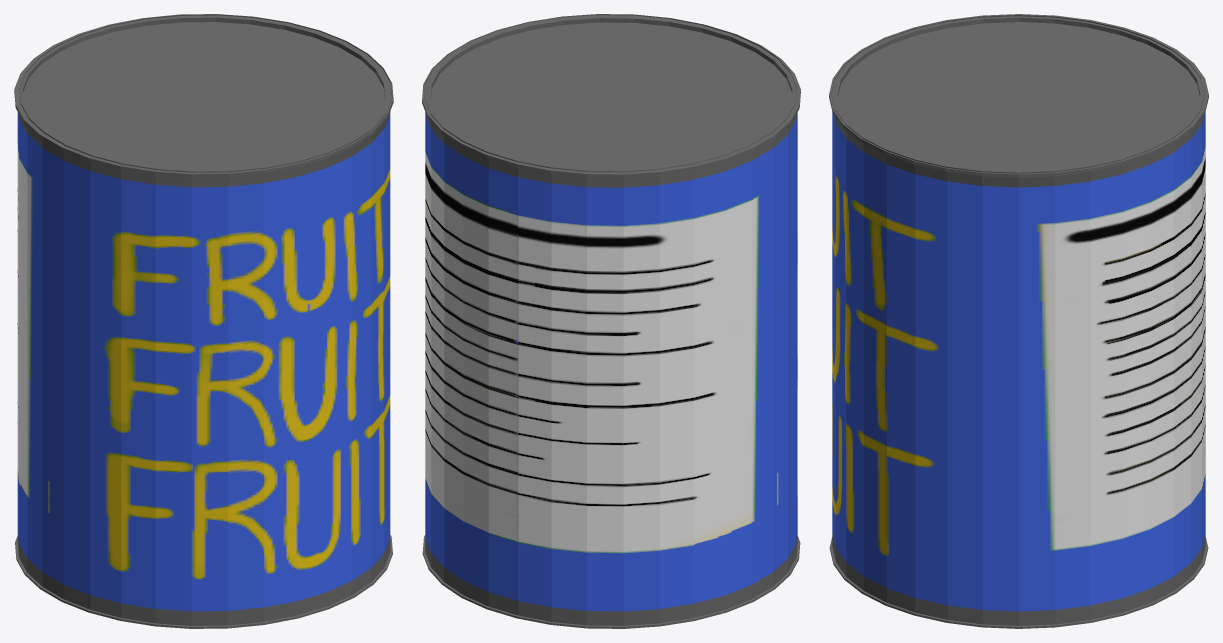
The model's file is ConserevBlue.fbx.
3 renders of one model, left to right at view 1: azimuth 30°, elevation 25°; view 2: azimuth 150°, elevation 25°; view 3: azimuth 270°, elevation 25°, orthographic.
Parts seen in each view (by area): view 1: Cylinder; view 2: Cylinder; view 3: Cylinder.
Part boxes in pixels (x1,y1,x2,y2): Cylinder: (14,14,393,628); Cylinder: (422,14,800,628); Cylinder: (829,14,1208,628).
Bounding box in the file's own units: 173 × 230 × 173.
2 materials, 1 textured.
